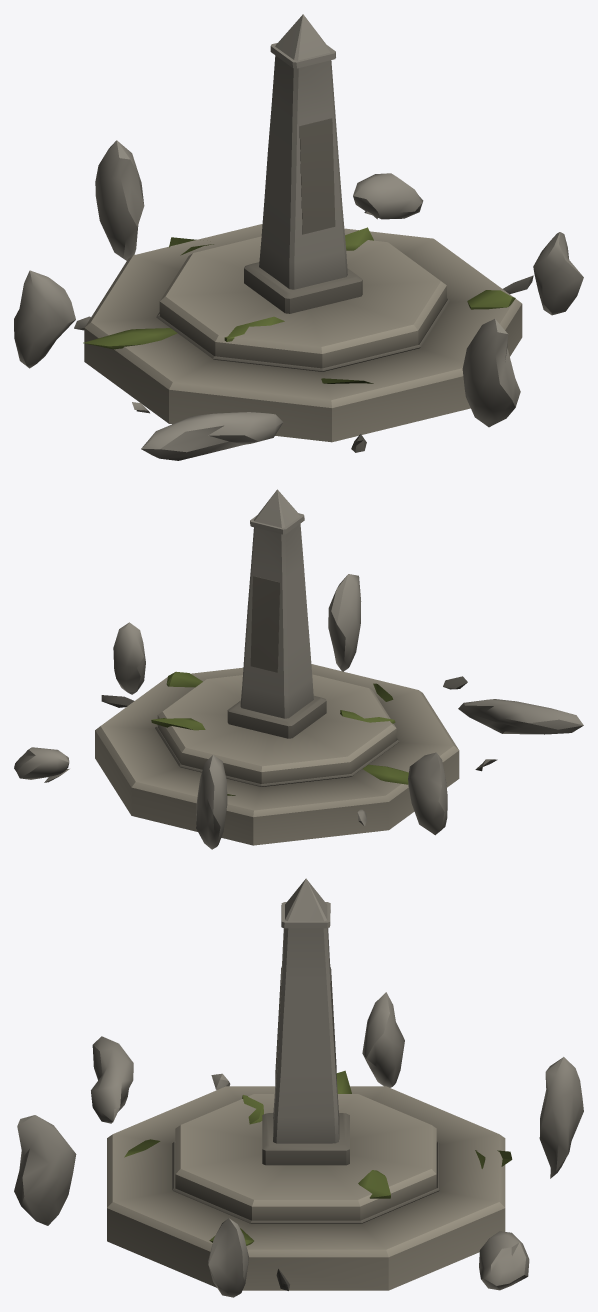
The model's file is santuario.glb.
The picture shows the model from 3 angles, top to bottom: view 1: azimuth 30°, elevation 25°; view 2: azimuth 150°, elevation 25°; view 3: azimuth 270°, elevation 25°; orthographic projection. The views are drawn at different scales.
Visible parts, largest first — view 1: base_santuario, menhires, monolito; view 2: base_santuario, monolito, menhires; view 3: base_santuario, menhires, monolito.
Boxes of the visible parts, x1,y1,x2,y2 form: base_santuario: (83,224,522,442); menhires: (14,140,583,460); monolito: (244,14,362,313); base_santuario: (95,664,459,845); monolito: (227,489,326,738); menhires: (14,574,583,849); base_santuario: (107,1070,512,1290); menhires: (14,992,583,1297); monolito: (262,878,349,1165).
Bounding box in the file's own units: 7.92 × 5.12 × 8.06.
